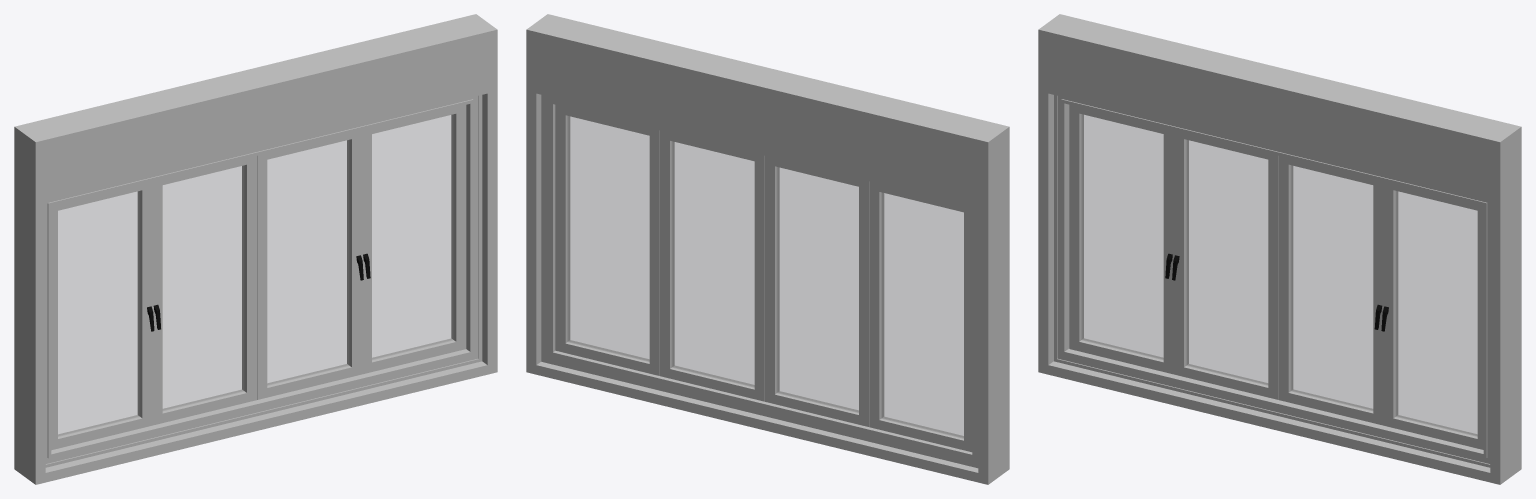
File: Window.FBX
3 views of the same model, side by side, from view 1: azimuth 30°, elevation 25°; view 2: azimuth 150°, elevation 25°; view 3: azimuth 330°, elevation 25° (orthographic).
Visible parts, largest first — view 1: window frame, window C, window D, window A, window B; view 2: window frame, window C, window A, window D, window B; view 3: window frame, window C, window A, window B, window D.
Boxes of the visible parts, x1,y1,x2,y2 form: window frame: [14, 14, 497, 484]; window C: [257, 130, 363, 399]; window D: [362, 105, 466, 374]; window A: [152, 156, 256, 425]; window B: [51, 181, 154, 450]; window frame: [526, 14, 1009, 484]; window C: [660, 130, 764, 401]; window A: [765, 156, 869, 426]; window D: [555, 104, 659, 375]; window B: [869, 181, 972, 452]; window frame: [1038, 14, 1521, 484]; window C: [1278, 156, 1383, 425]; window A: [1172, 130, 1278, 399]; window B: [1069, 104, 1173, 374]; window D: [1381, 181, 1483, 449].
Size of the model in its own units: 106 by 74.97 by 8.45.
